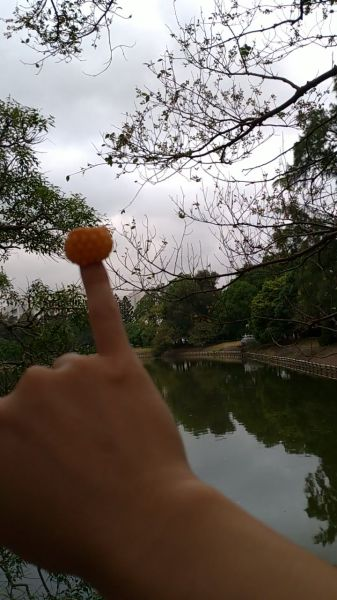eggs: (63, 226, 115, 266)
